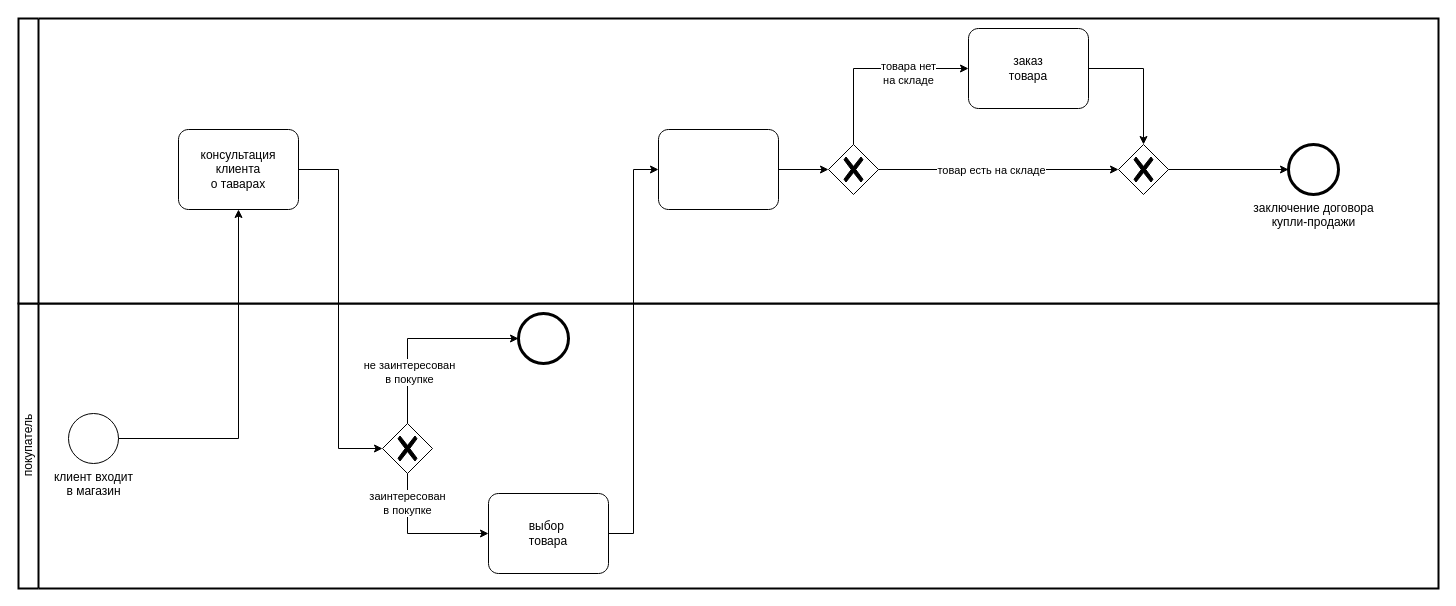
This 1456x606 diagram has some shape labels left out. Each missing label, with the box of its shape:
проверка наличия на складе: (658, 128, 778, 210)
продавец: (17, 17, 1439, 304)
уход клиента из магазина: (518, 312, 568, 364)
